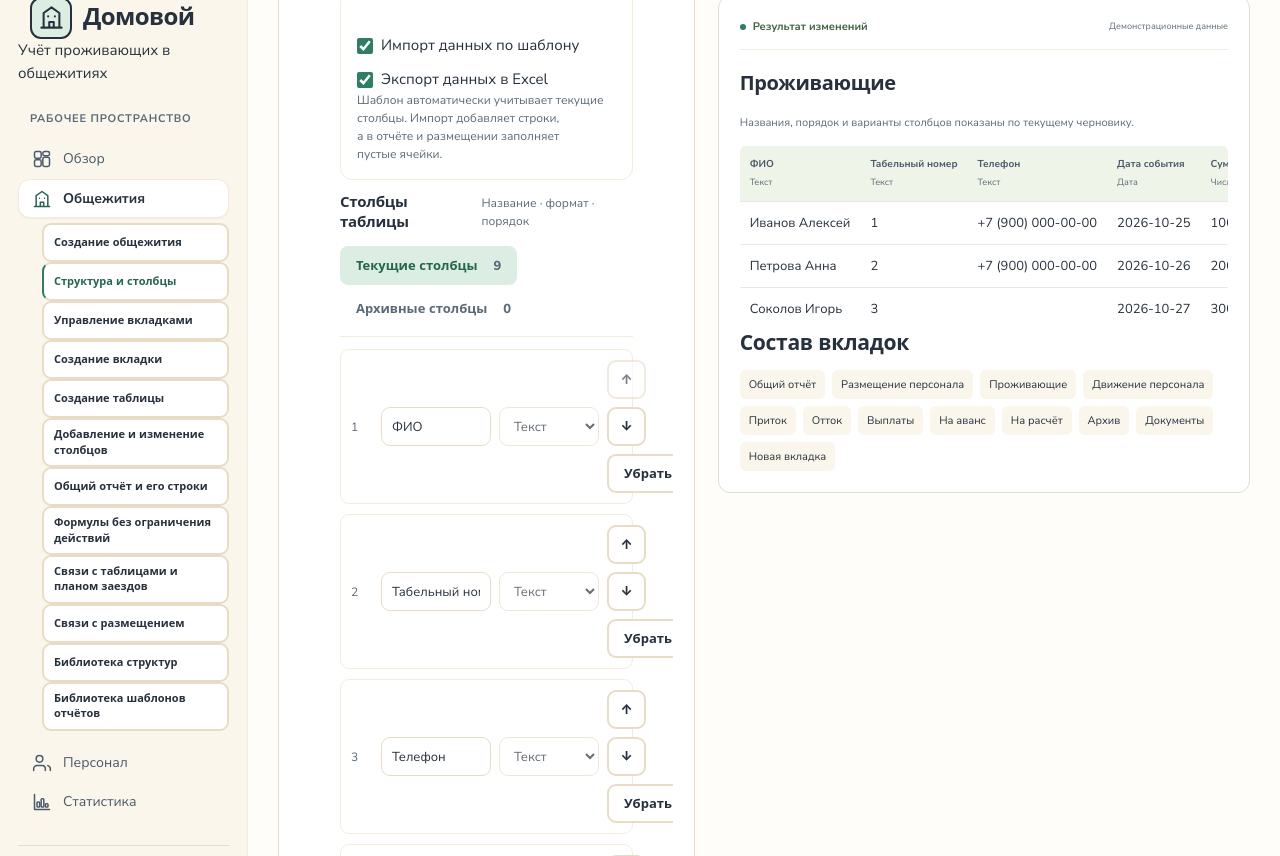
Test: Исходные конструкторы проекта в варианте №2 › показывает черновик структуры рядом с исходным редактором
(page scrolled)
Replace the text in the field named "Название столбца 1" with "Полное имя сотрудника": (436,427) [381,407,491,446]
(page scrolled)
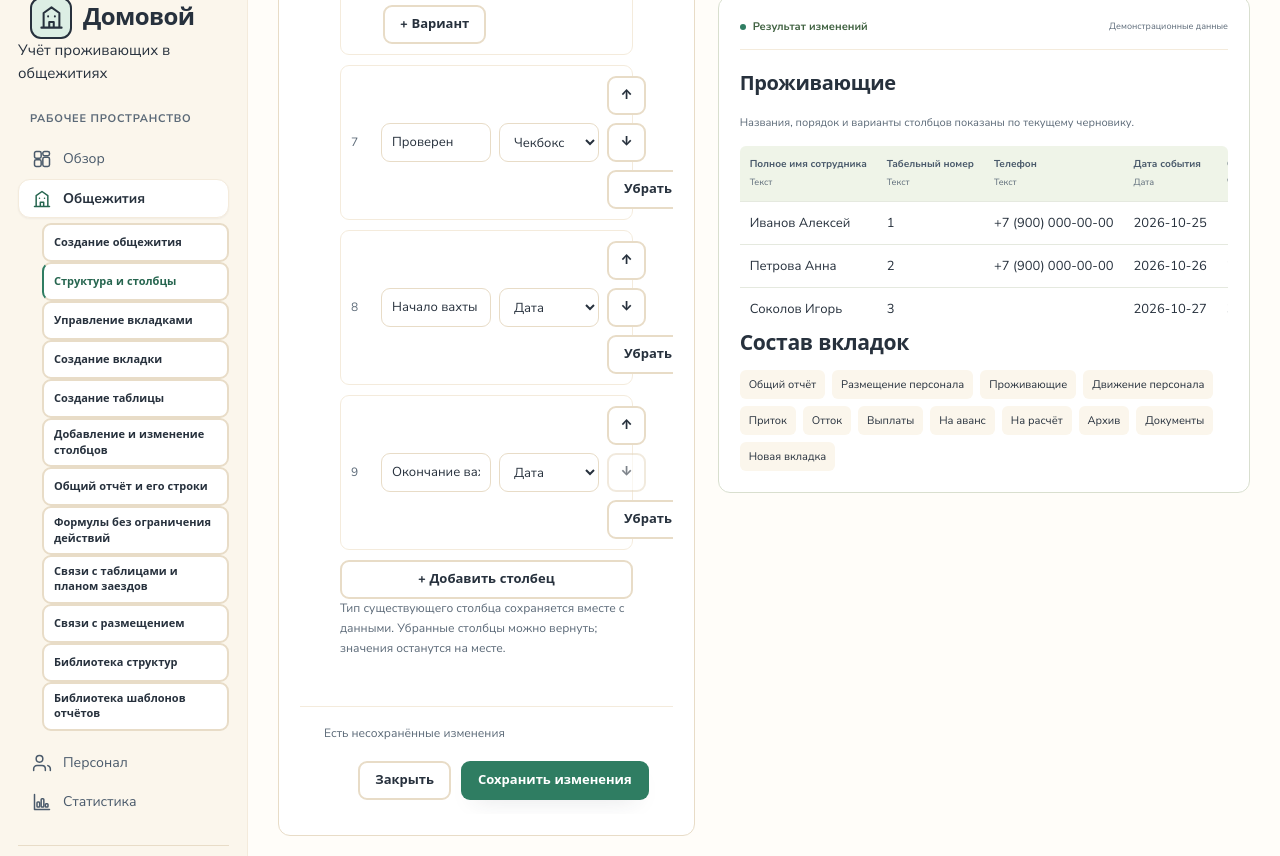
Expected: the column heading "Полное имя сотрудника Текст" is shown, [740,146,877,201]
Expected: the button "Сохранить изменения" is enabled, [461,761,649,800]
